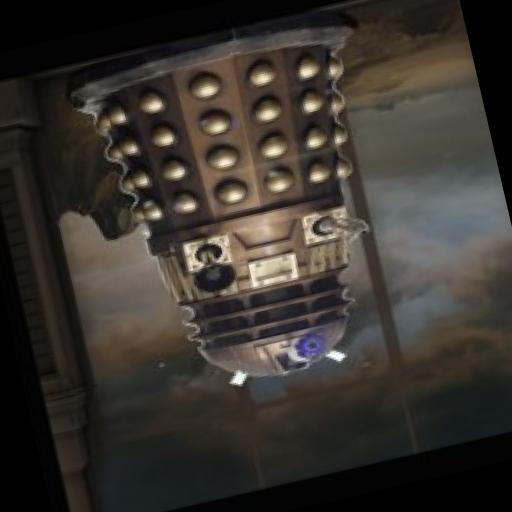dalek: (65, 1, 432, 414)
